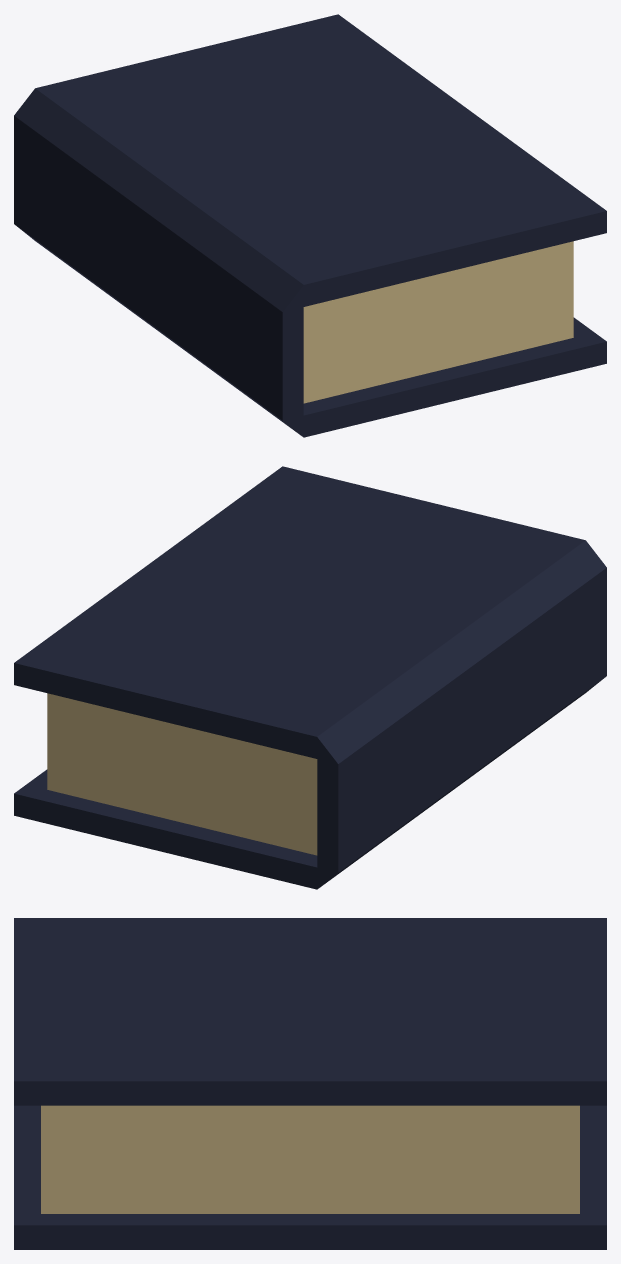
File: Book4.fbx
The picture shows the model from 3 angles, top to bottom: view 1: azimuth 30°, elevation 25°; view 2: azimuth 150°, elevation 25°; view 3: azimuth 270°, elevation 25°; orthographic projection. The views are drawn at different scales.
Visible parts, largest first — view 1: Cube; view 2: Cube; view 3: Cube.
Part boxes in pixels (x1,y1,x2,y2): Cube: (14,14,606,437); Cube: (14,466,606,889); Cube: (14,918,606,1249).
Bounding box in the file's own units: 0.345 × 0.1553 × 0.495.
